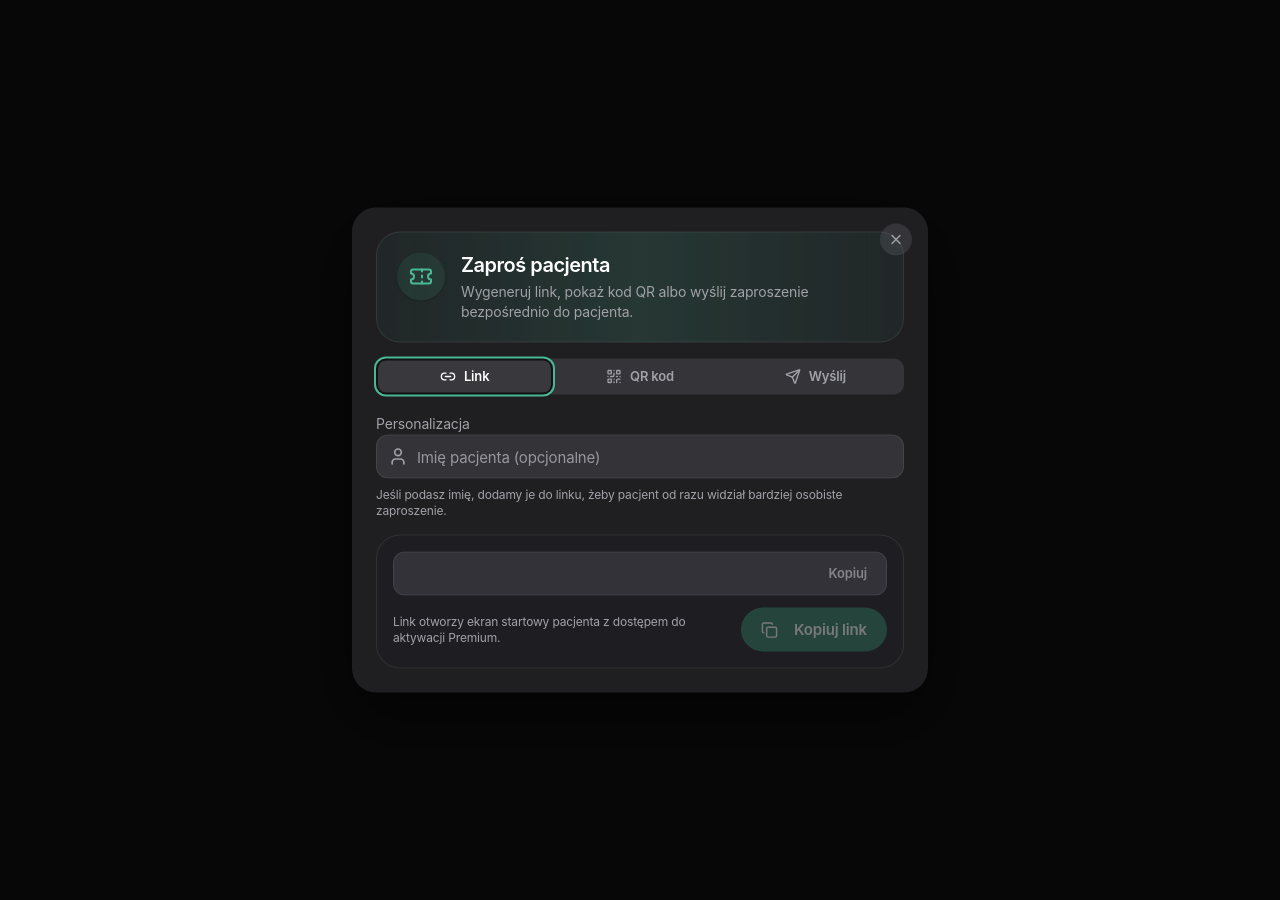
Test: PatientInviteDialog unified invite flow › aktywuje wysyłkę po wpisaniu poprawnego emaila
Click the tab with test id "invite-tab-send": x=815, y=376 [729,360,902,392]
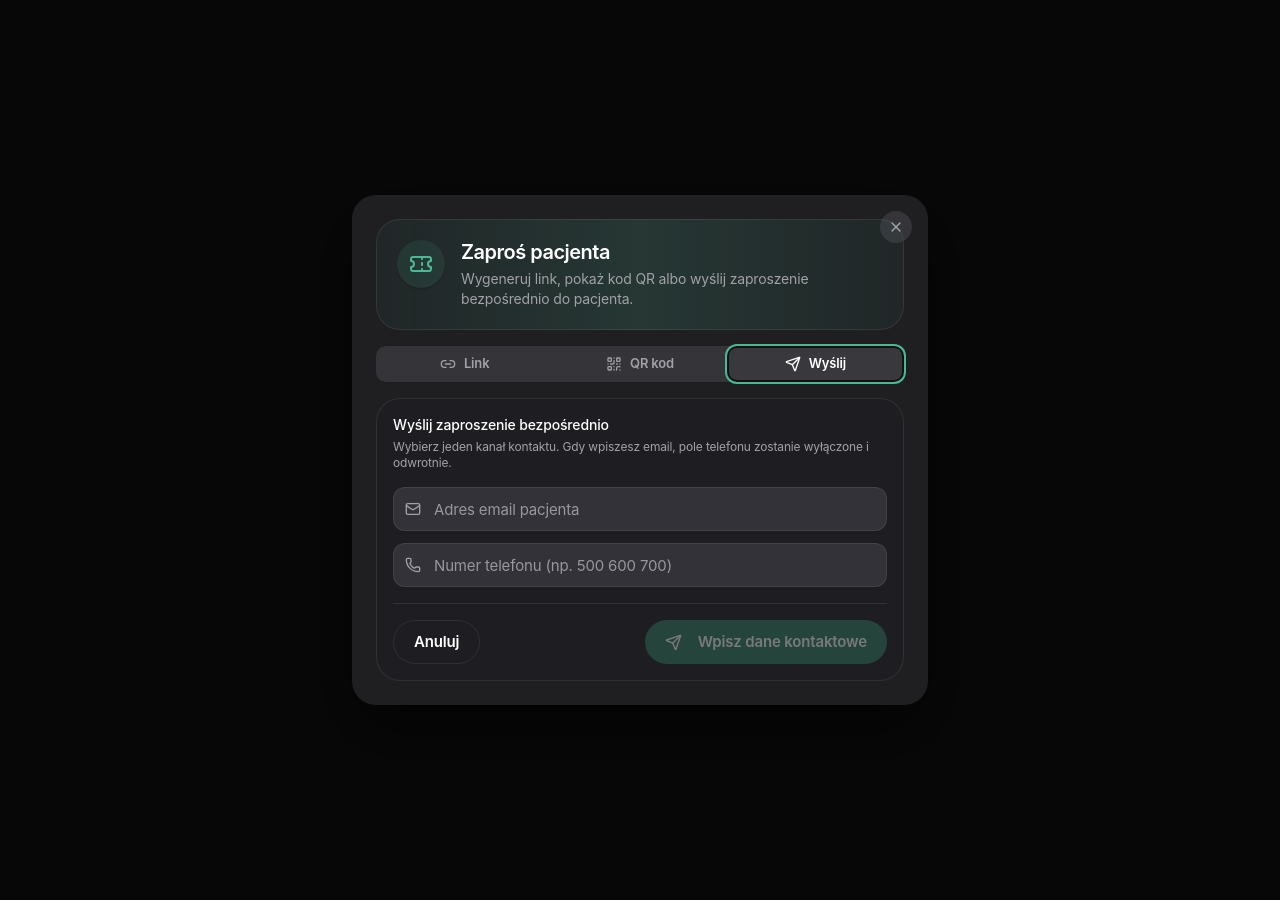
Result: the button with test id "invite-send-btn" is disabled at [645,620,887,664]
In the field with test id "invite-email-input": x=640, y=509 [393,487,887,531], type "pacjent@example.com"
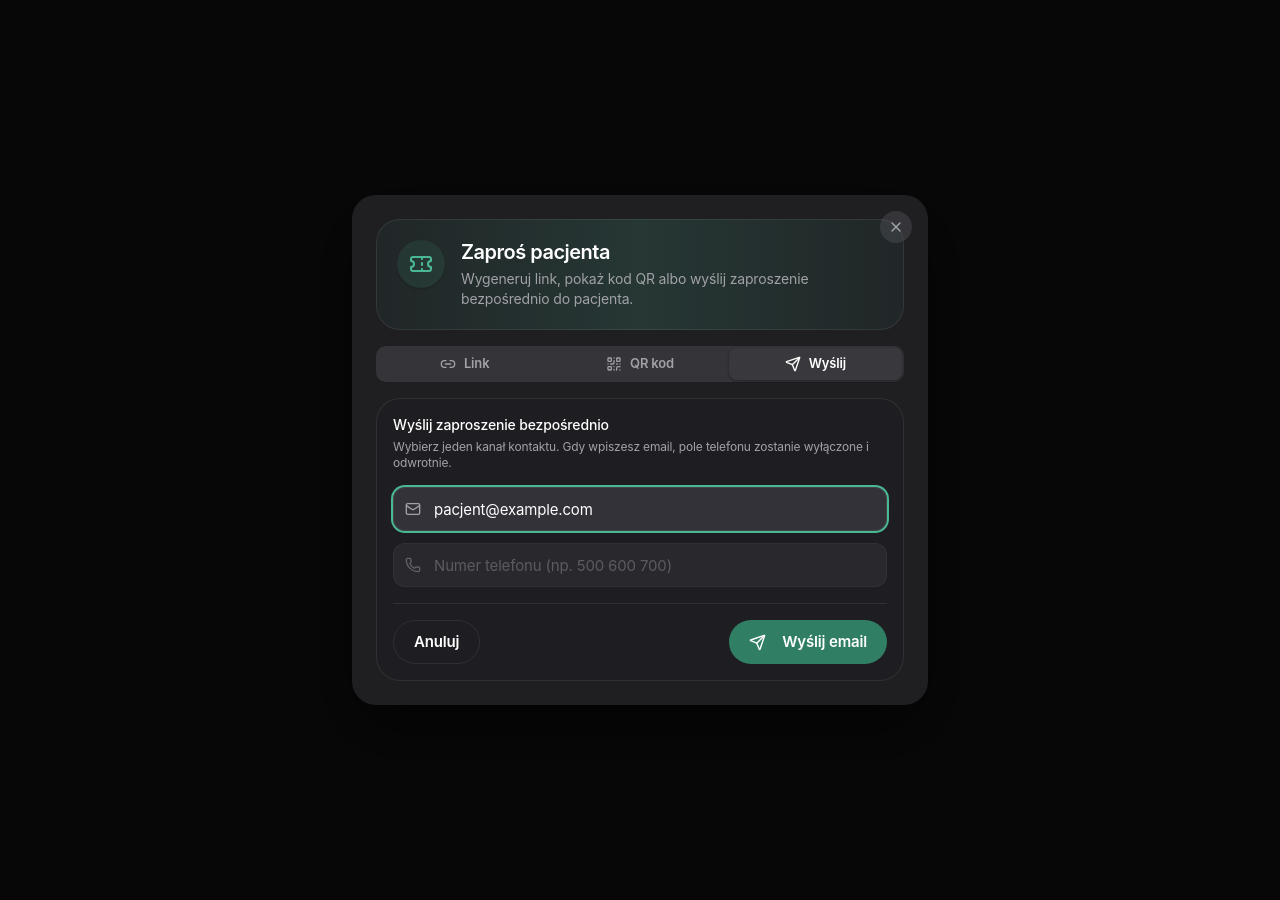
Result: the button with test id "invite-send-btn" is enabled at [729,620,887,664]
